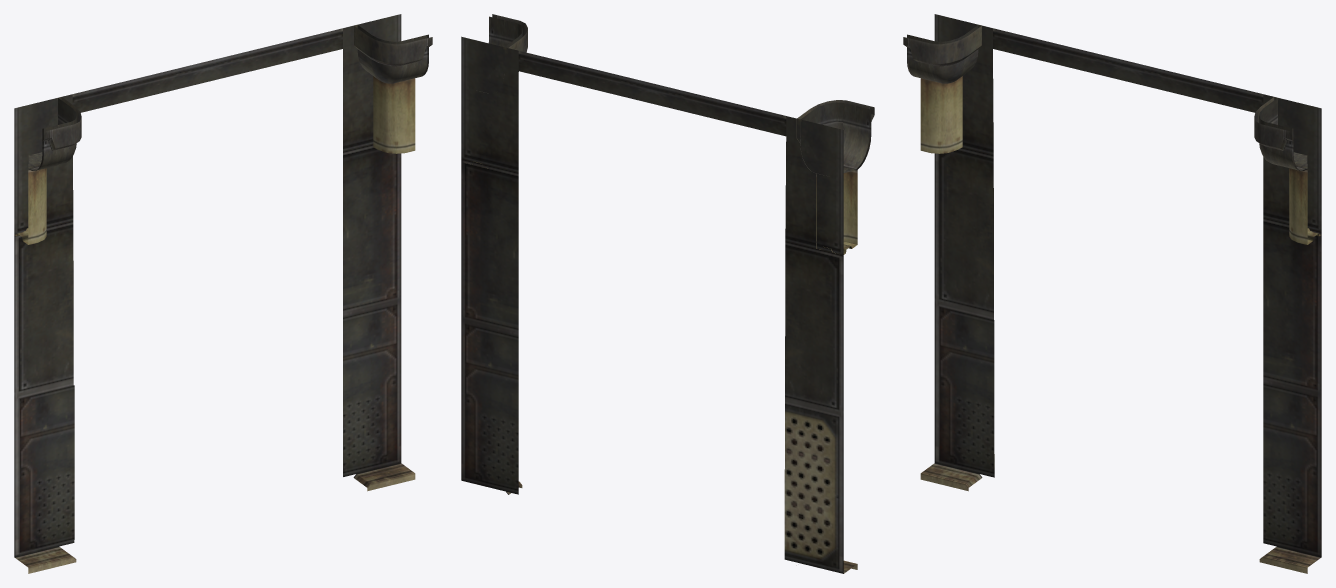
Rendered from 01_01_doorway_robot_storage.dae.
The picture shows the model from 3 angles, left to right: view 1: azimuth 30°, elevation 25°; view 2: azimuth 150°, elevation 25°; view 3: azimuth 330°, elevation 25°; orthographic projection.
Visible parts, largest first — view 1: polySurface662; view 2: polySurface662; view 3: polySurface662.
Part boxes in pixels (left/top/right/bottom): polySurface662: left=14, top=14, right=432, bottom=573; polySurface662: left=461, top=14, right=874, bottom=573; polySurface662: left=903, top=14, right=1321, bottom=573.
Size of the model in its own units: 400 by 450 by 56.44.
